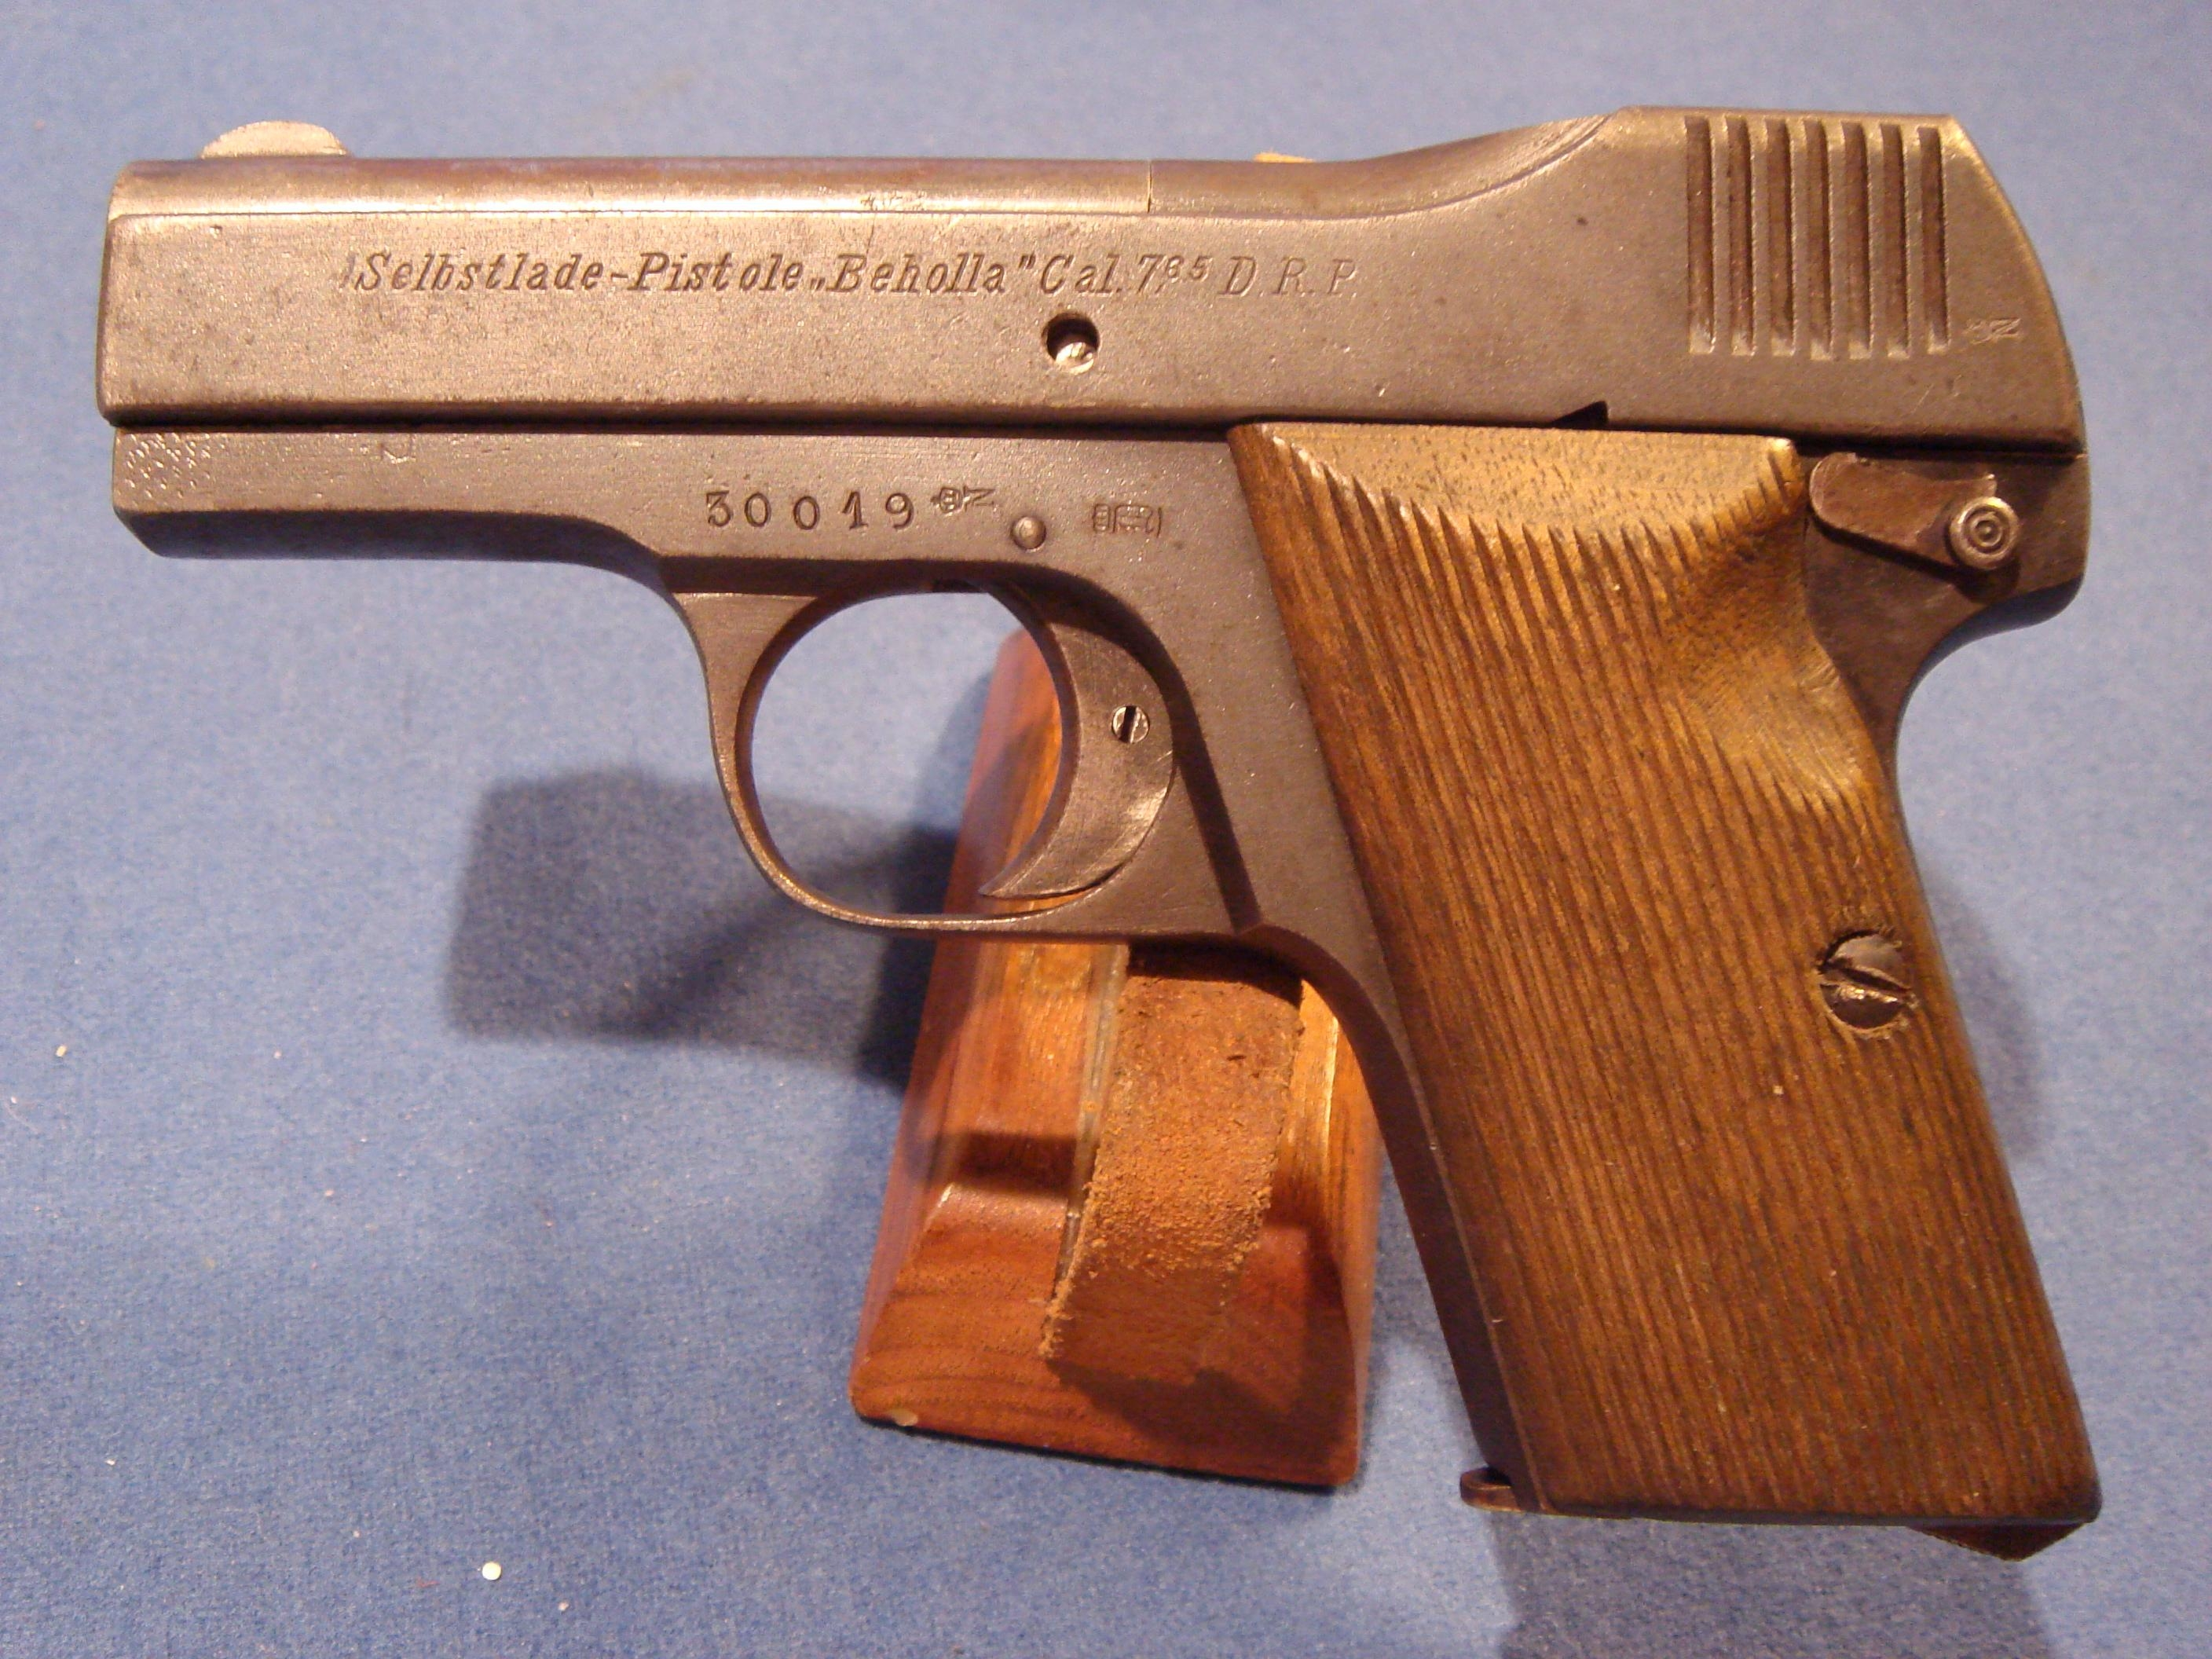gun: (63, 87, 2132, 1582)
